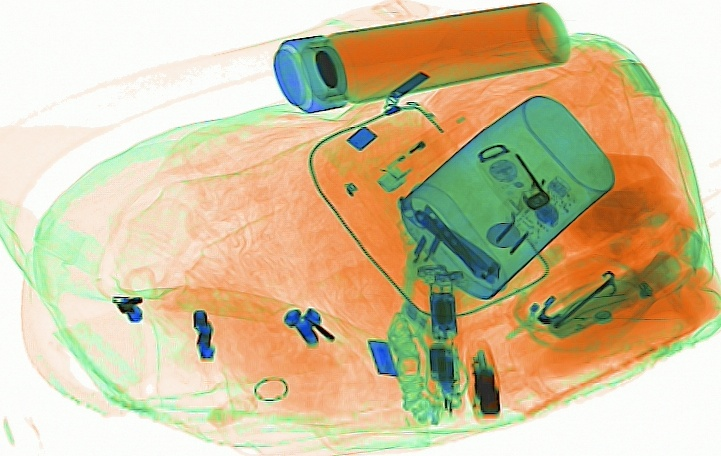lighter: (372, 108, 479, 192)
